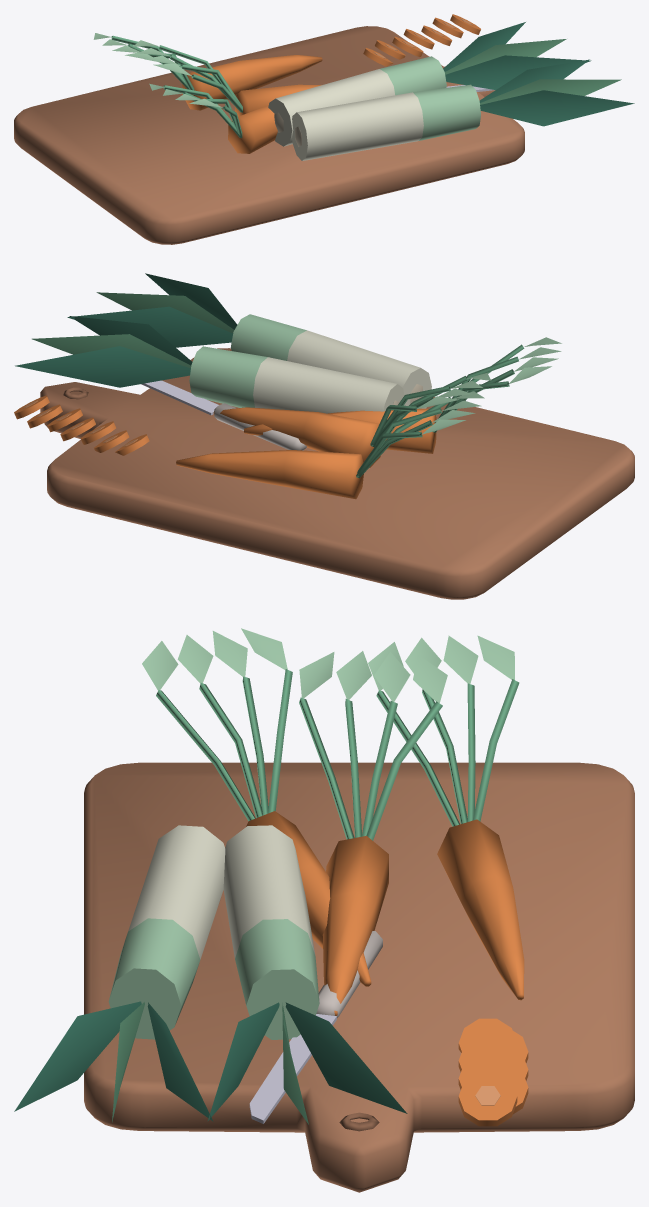
Rendered from veg_chopping_board.glb.
3 views of the same model, one above another, from view 1: azimuth 30°, elevation 25°; view 2: azimuth 150°, elevation 25°; view 3: azimuth 270°, elevation 25° (orthographic). The views are drawn at different scales.
Parts seen in each view (by area): view 1: veg_chopping_board; view 2: veg_chopping_board; view 3: veg_chopping_board.
Part boxes in pixels (x1=…): veg_chopping_board: x1=14, y1=14, x2=634, y2=244; veg_chopping_board: x1=14, y1=273, x2=634, y2=599; veg_chopping_board: x1=14, y1=628, x2=634, y2=1192.
Size of what is drawn, in the model's own units: 0.5 by 0.12 by 0.32.
